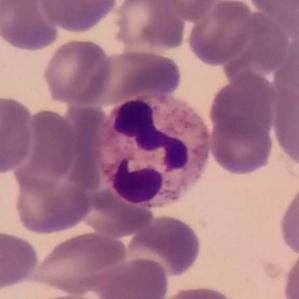Neutrophil: (95, 88, 215, 217)
RBC: (29, 228, 129, 296), (11, 169, 92, 237), (88, 48, 184, 104), (124, 212, 204, 279), (13, 107, 78, 188), (40, 36, 115, 106), (223, 12, 291, 85), (206, 71, 278, 139), (185, 0, 254, 67), (207, 115, 276, 177), (60, 100, 107, 189), (78, 184, 155, 238), (111, 0, 188, 53), (94, 254, 171, 299), (0, 0, 62, 53), (0, 94, 36, 176), (37, 0, 120, 34), (0, 228, 41, 292), (270, 86, 299, 169), (276, 178, 299, 259), (155, 0, 220, 22), (156, 283, 241, 299), (245, 0, 299, 25), (280, 247, 298, 299)
